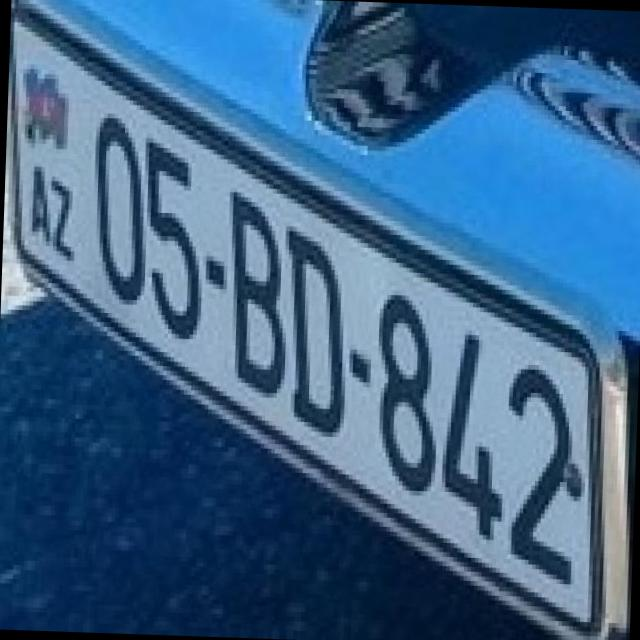0: (76, 98, 150, 300)
2: (484, 344, 586, 588)
4: (428, 310, 508, 539)
5: (128, 119, 211, 338)
8: (358, 280, 441, 496)
B: (212, 172, 292, 398)
D: (268, 202, 354, 432)
K: (576, 311, 634, 618)
Z: (37, 157, 81, 260)
